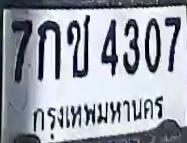0: (144, 18, 161, 72)
3: (122, 18, 139, 74)
4: (100, 18, 118, 75)
7: (11, 20, 32, 80), (164, 16, 181, 71)
A01: (37, 20, 61, 80)
A10: (66, 14, 90, 78)
BKK: (29, 94, 167, 140)
